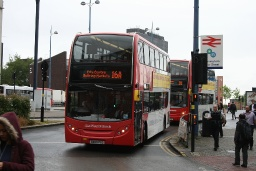bus: (63, 31, 173, 147), (169, 59, 215, 123)
